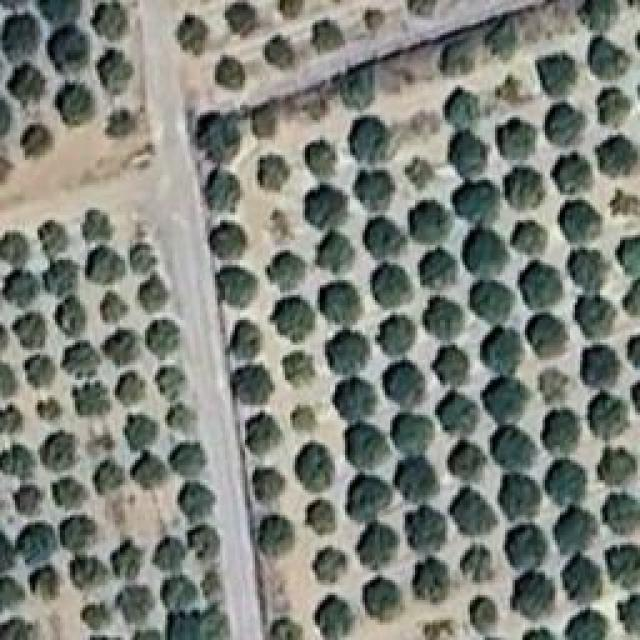Tree: (483, 378, 532, 425), (463, 227, 509, 277), (450, 488, 498, 535), (348, 475, 394, 523), (453, 180, 502, 225), (513, 570, 557, 620), (345, 423, 390, 471), (555, 505, 598, 555), (395, 455, 440, 502), (520, 260, 564, 308), (333, 378, 378, 424), (383, 360, 426, 408), (358, 523, 401, 571), (270, 297, 315, 342), (325, 330, 370, 375), (493, 427, 538, 472), (198, 115, 241, 162), (500, 473, 543, 520), (588, 392, 628, 442), (563, 552, 603, 602), (305, 185, 349, 230), (505, 525, 548, 571), (545, 460, 588, 506), (48, 25, 89, 73), (350, 115, 391, 163), (405, 505, 446, 553), (480, 328, 521, 376), (295, 444, 334, 494), (470, 280, 515, 323), (525, 312, 568, 357), (448, 130, 488, 178), (410, 200, 454, 243), (435, 393, 478, 436), (588, 38, 631, 81), (363, 218, 406, 261), (575, 295, 618, 338), (538, 52, 579, 97), (595, 135, 638, 177), (373, 263, 413, 308), (320, 283, 361, 326), (393, 413, 434, 456), (560, 200, 601, 243), (363, 577, 402, 622), (3, 13, 39, 61), (423, 298, 463, 341), (545, 103, 585, 146), (315, 595, 353, 640), (542, 410, 580, 455), (18, 523, 58, 565), (315, 233, 355, 275), (498, 118, 538, 160), (8, 63, 47, 106), (55, 83, 94, 126), (505, 168, 544, 211), (98, 50, 134, 96), (448, 440, 488, 481), (553, 154, 594, 194), (420, 248, 459, 290), (245, 413, 283, 456), (413, 557, 449, 602), (340, 65, 375, 111), (85, 245, 125, 285), (355, 170, 395, 210), (378, 315, 417, 356), (205, 167, 240, 212), (268, 252, 307, 292), (573, 250, 609, 293), (220, 267, 258, 307), (177, 484, 215, 524), (602, 495, 640, 535), (258, 515, 294, 557), (583, 345, 619, 387), (440, 33, 475, 76), (485, 15, 518, 60), (40, 430, 76, 471), (445, 88, 480, 130), (2, 270, 40, 308), (103, 330, 142, 367), (115, 588, 154, 625), (598, 448, 637, 485), (235, 370, 275, 406), (605, 548, 640, 589), (62, 343, 100, 380), (145, 320, 180, 360), (433, 347, 468, 387), (93, 3, 129, 41), (43, 260, 79, 298), (210, 222, 246, 260), (305, 140, 339, 180), (230, 320, 263, 361), (133, 453, 169, 490), (60, 515, 96, 552), (170, 442, 208, 477), (70, 555, 108, 590), (72, 382, 110, 417), (55, 295, 86, 337), (0, 445, 36, 481), (163, 575, 199, 611), (313, 548, 348, 585), (460, 545, 494, 583), (598, 88, 632, 126), (565, 610, 608, 640), (178, 15, 209, 56), (113, 540, 144, 581), (513, 220, 549, 255), (125, 415, 159, 452), (138, 272, 169, 312), (38, 220, 69, 260), (188, 525, 221, 561), (93, 460, 126, 496), (258, 154, 291, 190), (13, 314, 47, 348), (225, 3, 259, 36), (313, 20, 347, 53), (153, 538, 187, 571), (283, 354, 316, 388), (38, 0, 81, 26), (155, 365, 186, 401), (20, 125, 53, 158), (30, 565, 60, 601), (308, 500, 338, 536), (583, 0, 617, 31), (115, 372, 145, 407), (200, 605, 230, 640), (540, 367, 570, 402), (0, 233, 29, 269), (470, 598, 498, 635), (53, 478, 87, 508), (83, 210, 114, 242), (265, 35, 295, 68), (255, 468, 285, 501), (25, 355, 55, 387), (405, 158, 435, 190), (215, 58, 244, 91), (617, 235, 640, 276), (130, 243, 159, 275), (617, 594, 640, 634), (253, 100, 277, 138), (100, 293, 129, 324), (0, 577, 25, 612), (15, 485, 43, 515), (108, 110, 137, 138), (168, 403, 197, 431), (167, 612, 195, 640), (83, 603, 112, 630), (270, 210, 291, 243), (622, 278, 640, 316), (615, 190, 640, 217), (0, 620, 32, 640), (0, 405, 22, 433), (0, 364, 18, 398), (293, 405, 316, 431), (0, 532, 14, 573), (203, 570, 223, 598), (270, 622, 300, 640), (38, 400, 62, 421), (408, 0, 436, 17), (365, 10, 386, 32), (280, 0, 305, 18), (627, 335, 640, 367), (523, 628, 556, 640)
